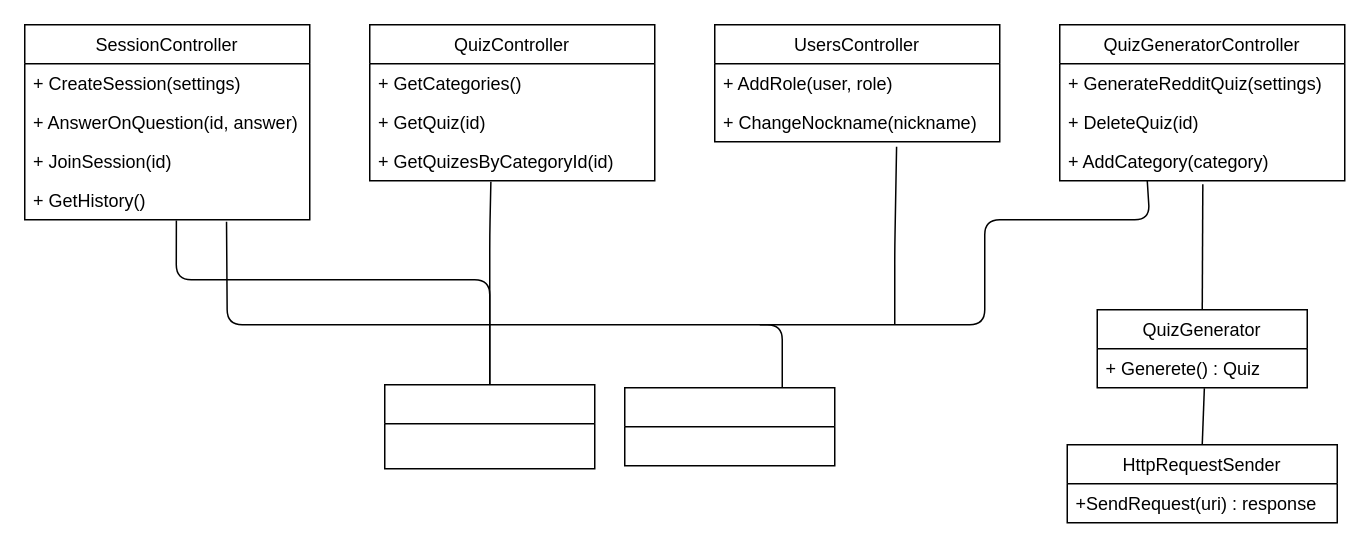
This 1370x548 diagram has some shape labels left out. The centre of each missing label's shape, as x and y in pixels:
"ApplicationContext" belongs at (x=489, y=426).
"IdentityContext" belongs at (x=729, y=426).
